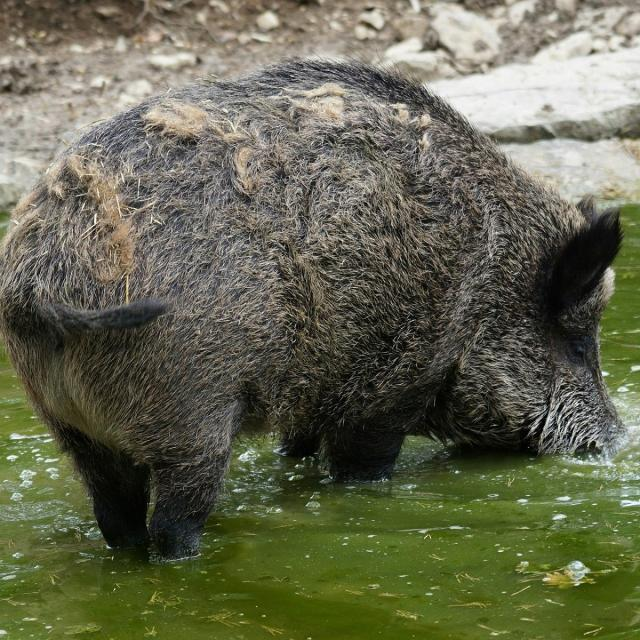Boar: (2, 57, 620, 557)
